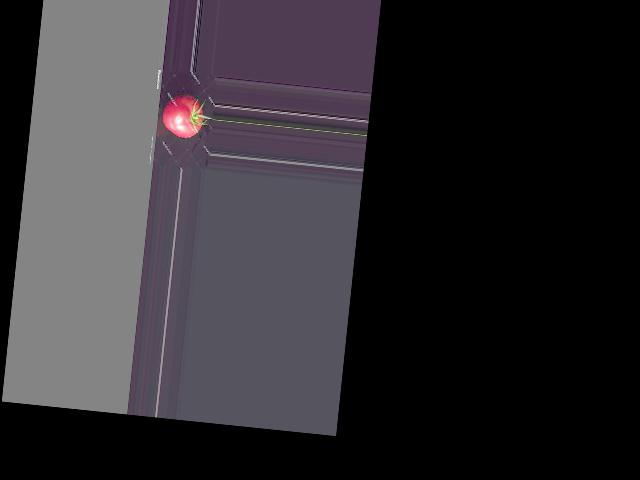tomato: (160, 93, 205, 139)
